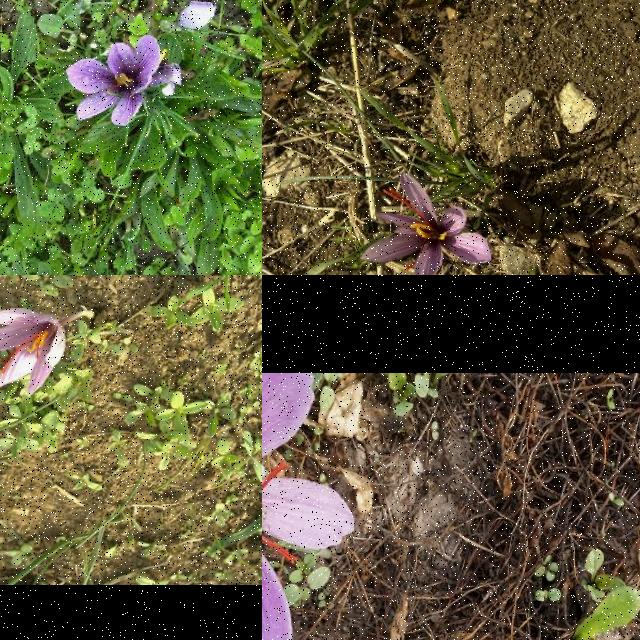flower: (262, 373, 355, 640), (360, 172, 492, 275), (66, 36, 160, 126), (0, 309, 66, 396), (177, 1, 217, 30)
